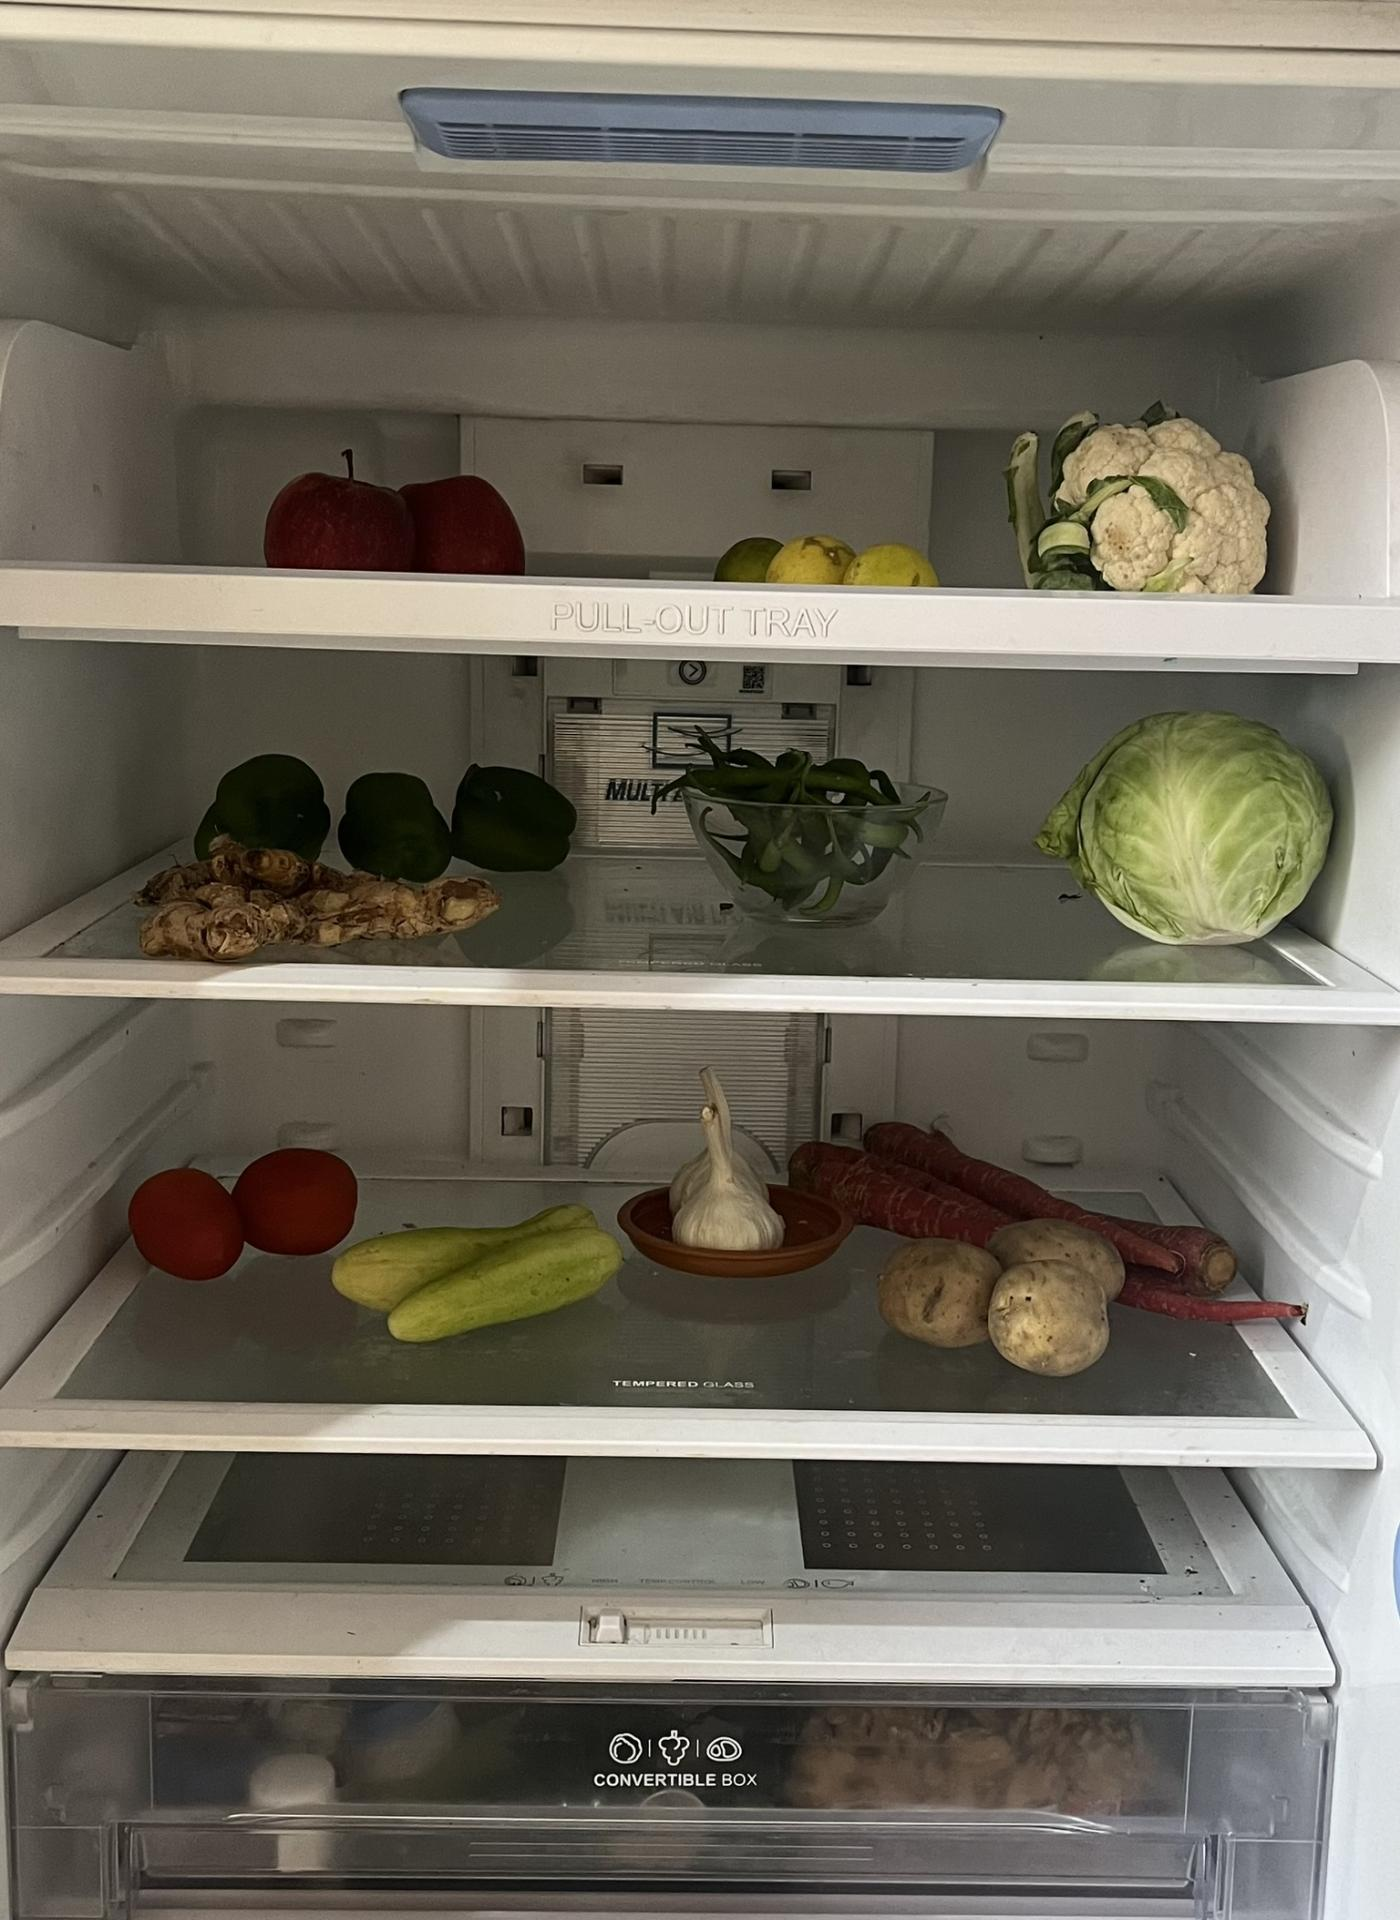apple: (262, 450, 520, 565)
cabbage: (1081, 701, 1343, 959)
capsicum: (212, 742, 590, 868)
carrots: (822, 1118, 1279, 1300)
cauliflower: (1017, 395, 1279, 590)
chillies: (695, 723, 930, 911)
cucumber: (341, 1193, 622, 1343)
garlic: (658, 1084, 787, 1264)
ginger: (139, 860, 496, 956)
lemon: (759, 517, 948, 587)
potato: (868, 1210, 1127, 1383)
tomato: (116, 1131, 353, 1292)
